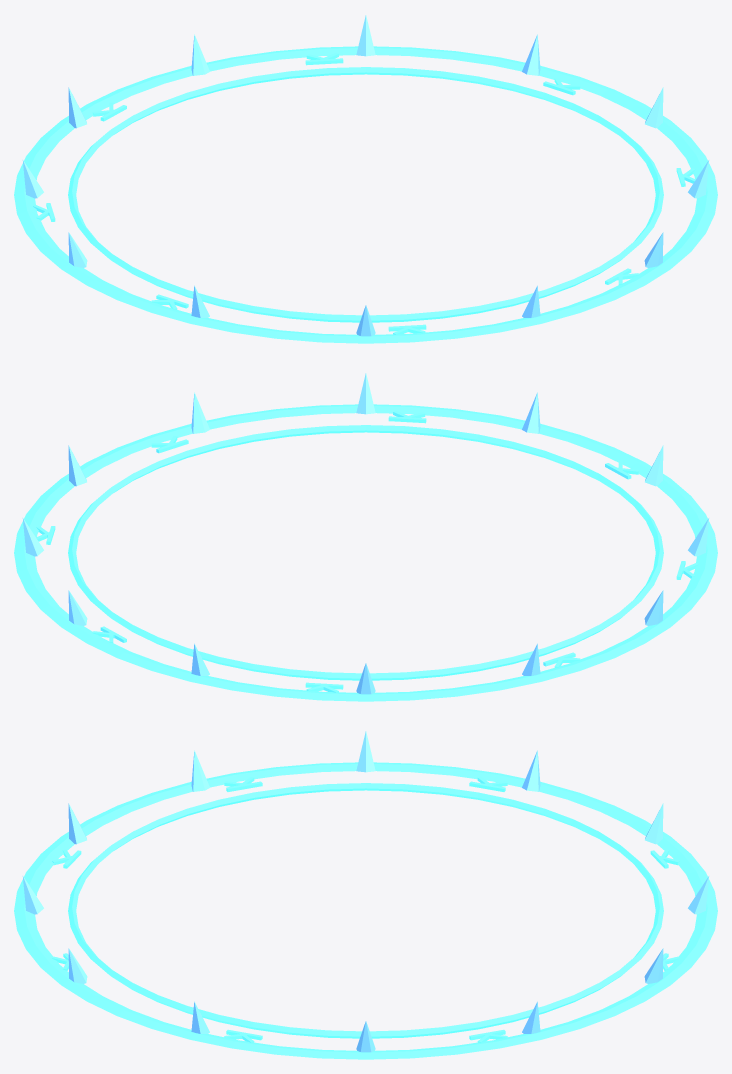
The model's file is fx_frost_pulse_ring.glb.
3 renders of one model, top to bottom at view 1: azimuth 30°, elevation 25°; view 2: azimuth 150°, elevation 25°; view 3: azimuth 270°, elevation 25°, orthographic.
Parts seen in each view (by area): view 1: Ring_Outer, Ring_Inner; view 2: Ring_Outer, Ring_Inner; view 3: Ring_Outer, Ring_Inner.
Part boxes in pixels (left/top/right/bottom): Ring_Outer: left=14, top=46, right=717, bottom=343; Ring_Inner: left=68, top=67, right=663, bottom=322; Ring_Outer: left=14, top=404, right=717, bottom=701; Ring_Inner: left=68, top=425, right=663, bottom=680; Ring_Outer: left=14, top=762, right=717, bottom=1059; Ring_Inner: left=68, top=783, right=663, bottom=1038.
Size of the model in its own units: 2.06 by 0.1269 by 2.06.
